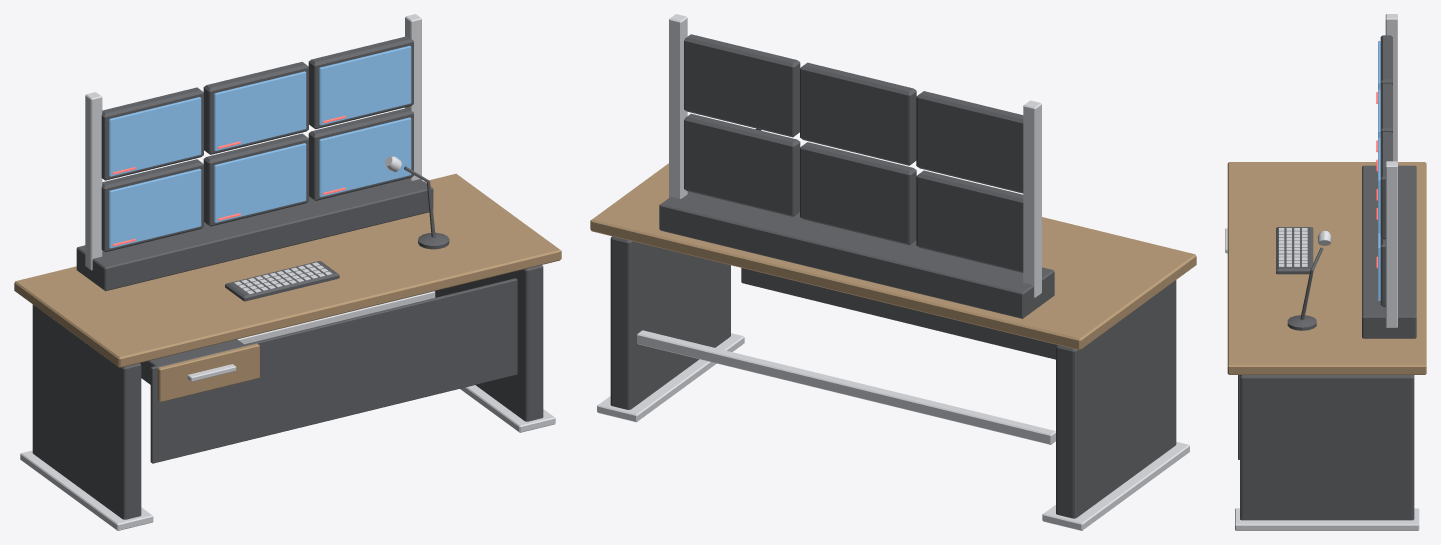
The model's file is escape-room-and-puzzle-venue-games-master-desk-with-mo-acab224e__35799.glb.
3 renders of one model, left to right at view 1: azimuth 30°, elevation 25°; view 2: azimuth 150°, elevation 25°; view 3: azimuth 270°, elevation 25°, orthographic. The views are drawn at different scales.
Parts seen in each view (by area): view 1: games-master-desk-with-monitor-bank, drawer/timber, drawer/dark; view 2: games-master-desk-with-monitor-bank; view 3: games-master-desk-with-monitor-bank.
Boxes of the visible parts, <box> form: games-master-desk-with-monitor-bank: <box>14,14,561,530</box>; drawer/timber: <box>157,343,259,402</box>; drawer/dark: <box>140,339,243,384</box>; games-master-desk-with-monitor-bank: <box>590,14,1196,530</box>; games-master-desk-with-monitor-bank: <box>1227,14,1426,530</box>.
Bounding box in the file's own units: 1.94 × 1.51 × 0.809.
